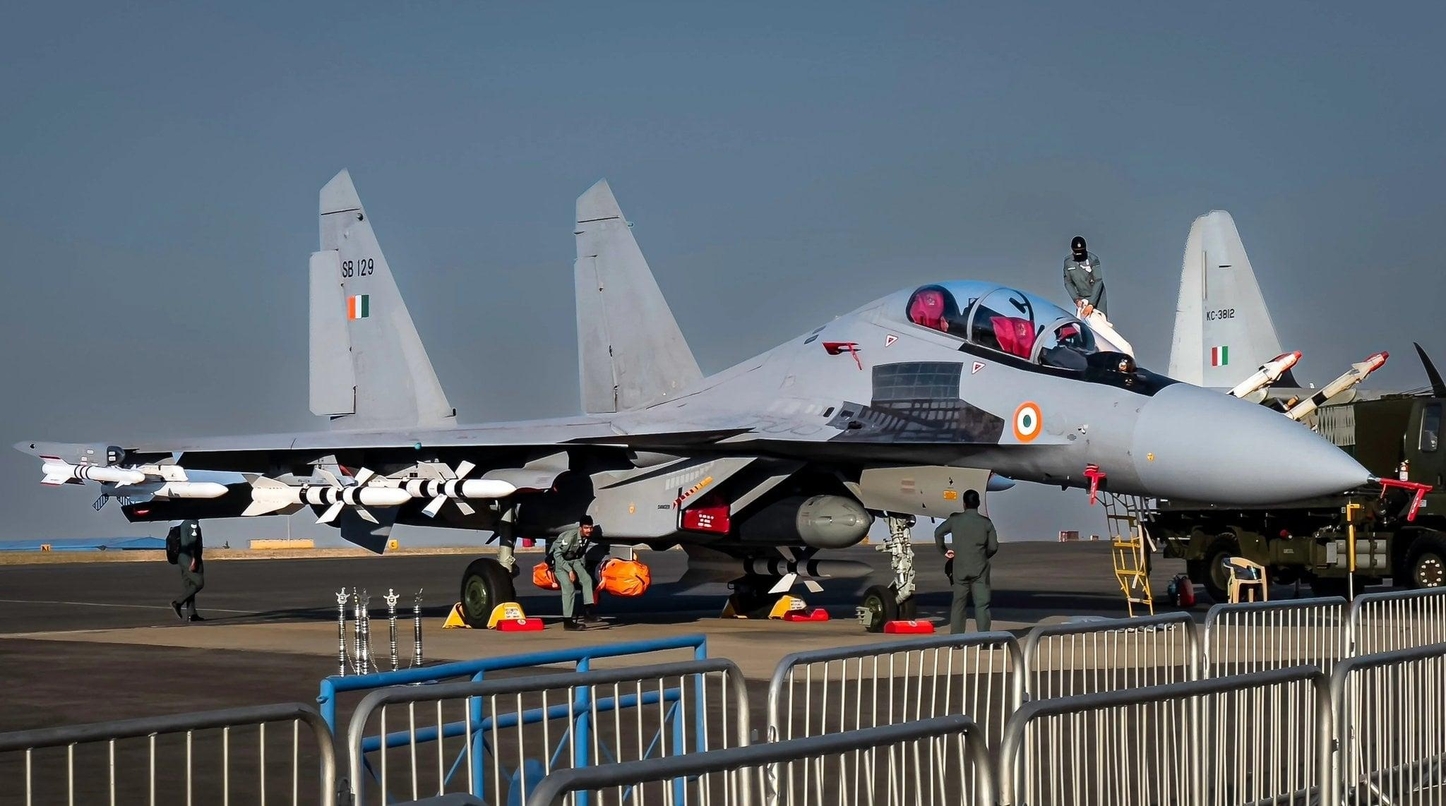aircraft: (18, 172, 1433, 625)
